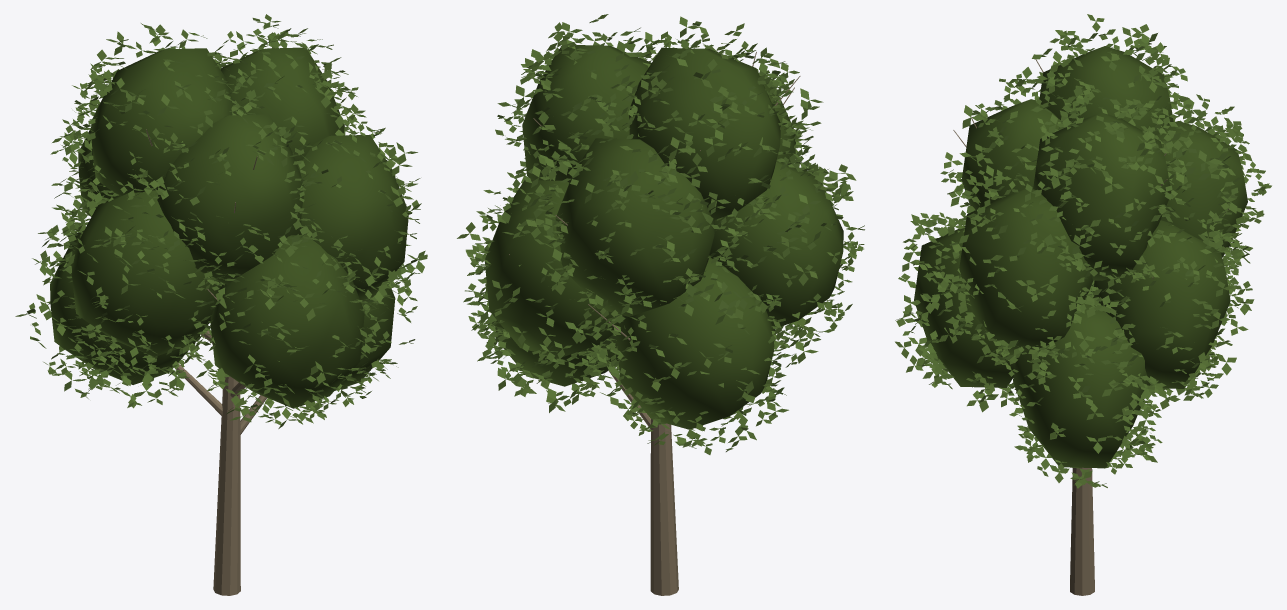
File: park_deciduous_tree.glb
The picture shows the model from 3 angles, left to right: view 1: azimuth 30°, elevation 25°; view 2: azimuth 150°, elevation 25°; view 3: azimuth 270°, elevation 25°; orthographic projection. The views are drawn at different scales.
Parts seen in each view (by area): view 1: Foliage_Core, Foliage, Wood; view 2: Foliage_Core, Foliage, Wood; view 3: Foliage_Core, Foliage, Wood.
Boxes of the visible parts, x1=… form: Foliage_Core: x1=50, y1=47, x2=408, y2=408; Foliage: x1=15, y1=14, x2=427, y2=428; Wood: x1=146, y1=129, x2=266, y2=595; Foliage_Core: x1=484, y1=45, x2=843, y2=429; Foliage: x1=457, y1=14, x2=864, y2=454; Wood: x1=509, y1=52, x2=800, y2=595; Foliage_Core: x1=914, y1=46, x2=1247, y2=468; Foliage: x1=895, y1=14, x2=1271, y2=488; Wood: x1=953, y1=59, x2=1228, y2=595.
Size of the model in its own units: 7.31 by 11.17 by 7.08.
